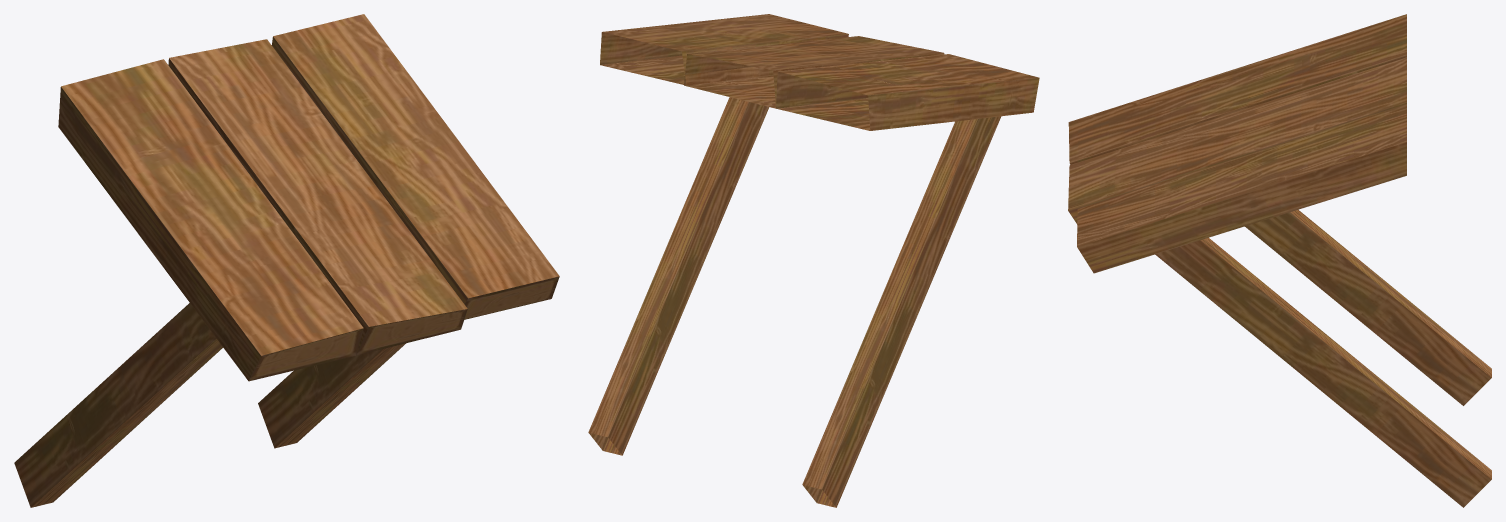
Rendered from roof-qm-windowroofthin.glb.
The picture shows the model from 3 angles, left to right: view 1: azimuth 30°, elevation 25°; view 2: azimuth 150°, elevation 25°; view 3: azimuth 270°, elevation 25°; orthographic projection. The views are drawn at different scales.
Parts seen in each view (by area): view 1: Cube_186; view 2: Cube_186; view 3: Cube_186.
Part boxes in pixels (x1,y1,x2,y2): Cube_186: (14,14,559,507); Cube_186: (588,14,1039,507); Cube_186: (1068,14,1491,507).
Size of the model in its own units: 0.8518 by 1.18 by 1.18.
2 materials, 2 textured.
